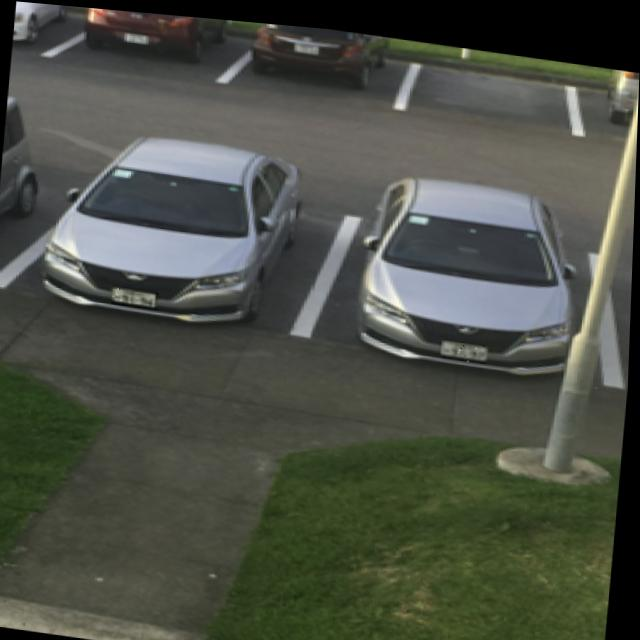license_plate: (113, 285, 161, 308), (445, 332, 490, 355)
